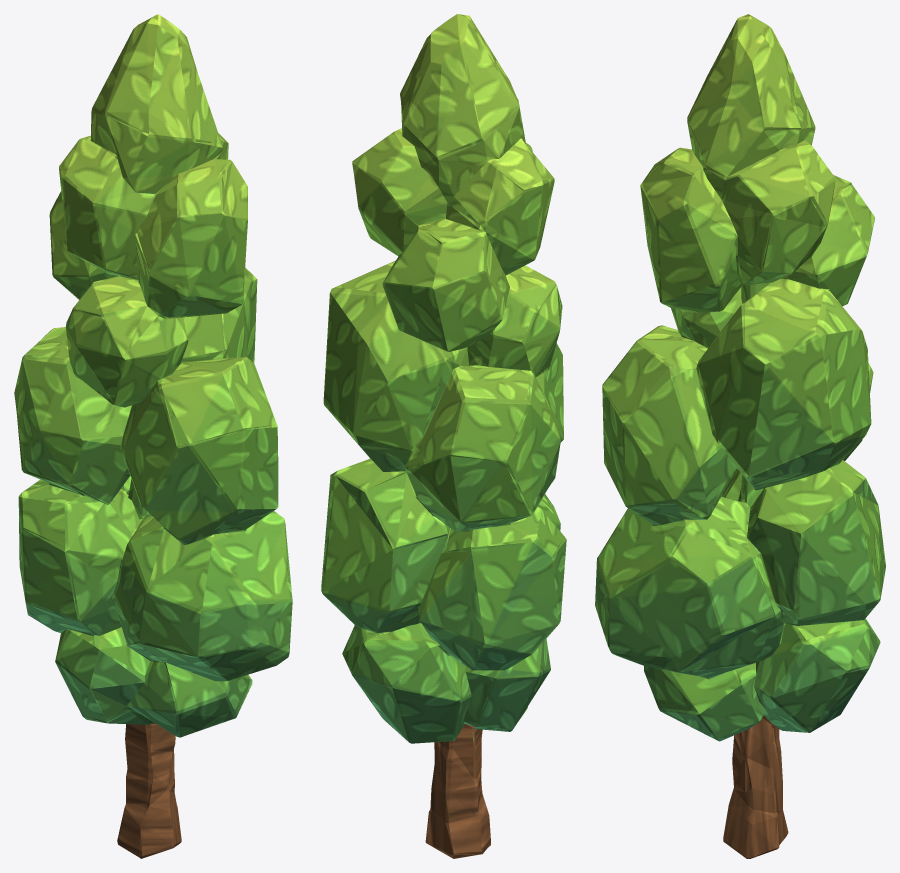
Rendered from poplar.glb.
The picture shows the model from 3 angles, left to right: view 1: azimuth 30°, elevation 25°; view 2: azimuth 150°, elevation 25°; view 3: azimuth 270°, elevation 25°; orthographic projection.
Visible parts, largest first — view 1: foliage_v3; view 2: foliage_v3; view 3: foliage_v3.
Boxes of the visible parts, x1=… form: foliage_v3: x1=14, y1=14, x2=292, y2=858; foliage_v3: x1=321, y1=14, x2=566, y2=858; foliage_v3: x1=595, y1=14, x2=885, y2=858.
Bounding box in the file's own units: 9.23 × 33 × 10.4.
1 material, 1 textured.
